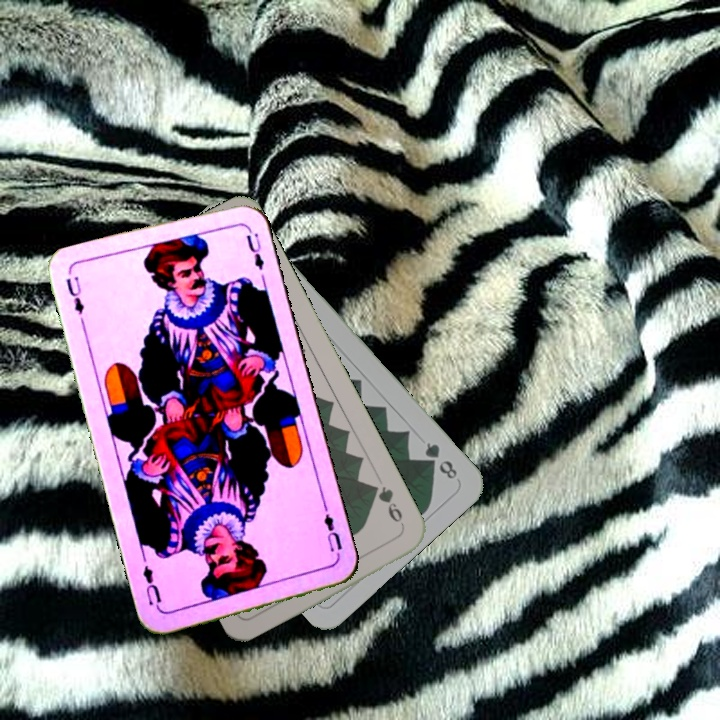EU: (319, 503, 345, 555), (62, 272, 87, 318)
G8: (421, 438, 460, 482)
G9: (367, 480, 408, 531)
